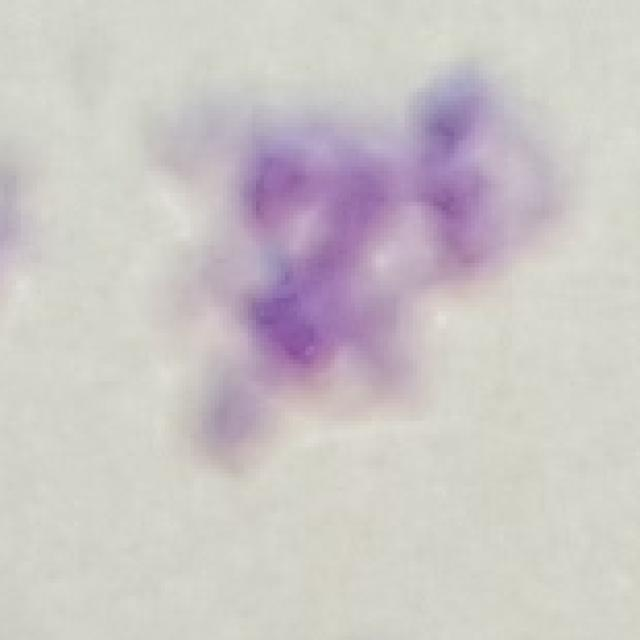non-sperm: (178, 67, 507, 454)
